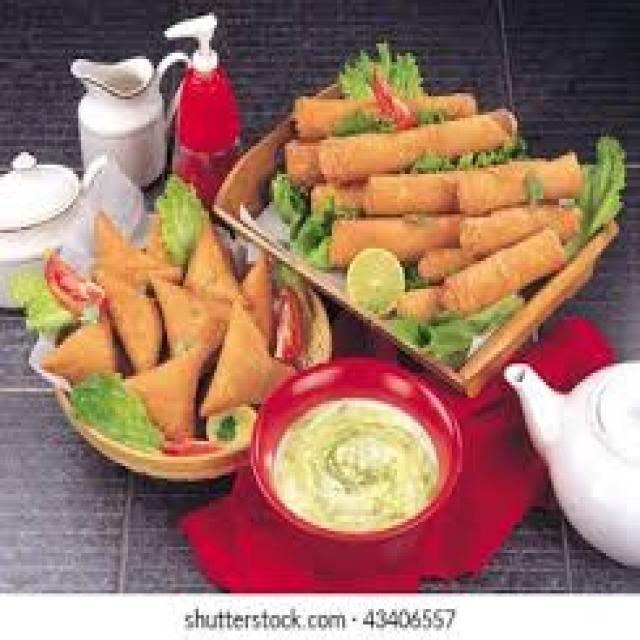Samosa: (45, 208, 292, 438)
Spring Rolls: (277, 72, 582, 304)
